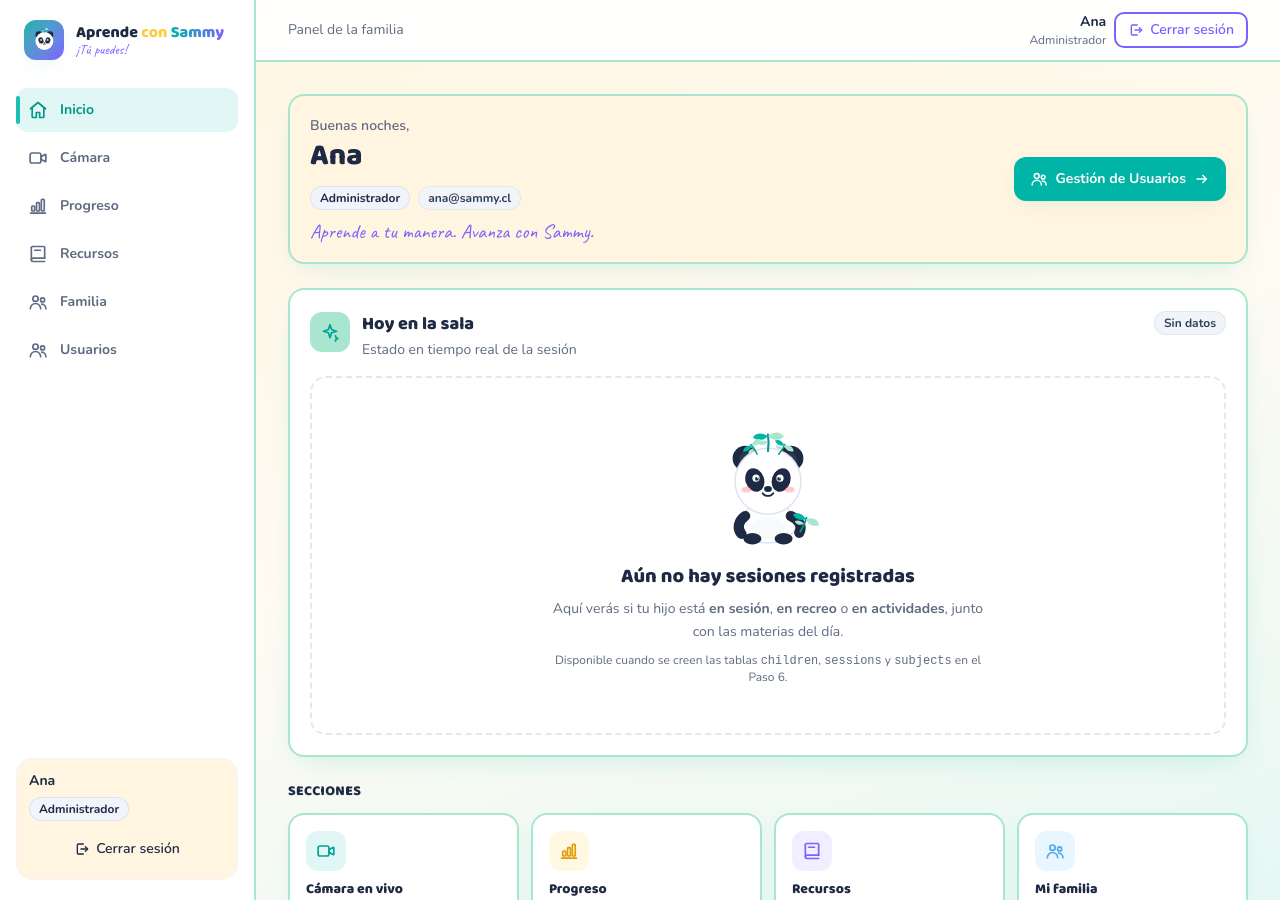
Test: Enrutamiento — navegación real entre secciones › un admin navega desde el panel a Gestión de Usuarios
Expected: the heading "Ana" is shown, x1=310 y1=132 x2=363 y2=180
Click the link "Gestión de Usuarios" at (1120, 179), box x1=1014 y1=157 x2=1226 y2=201
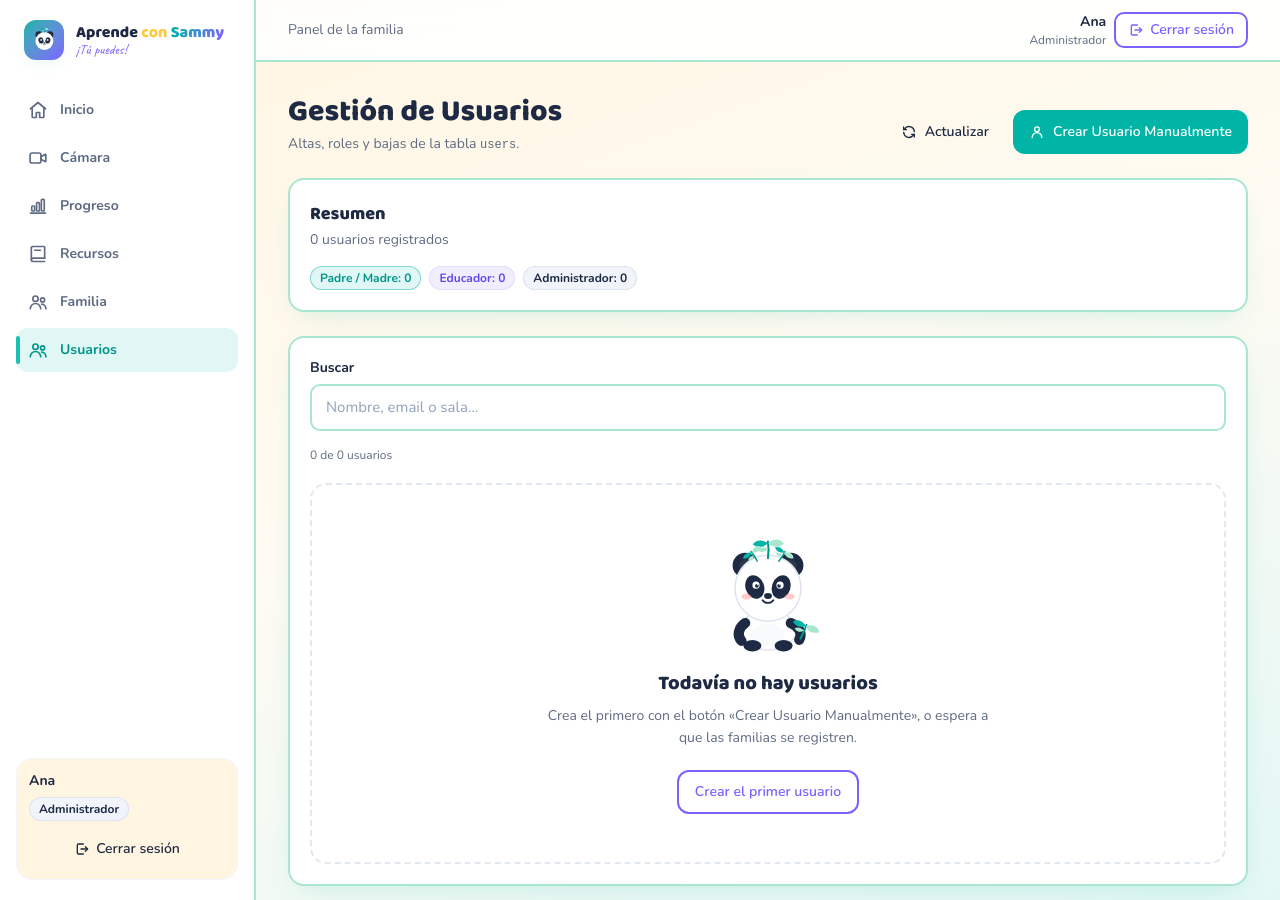
Now the text "Crear Usuario Manualmente" is shown, box x1=1053 y1=122 x2=1232 y2=142
